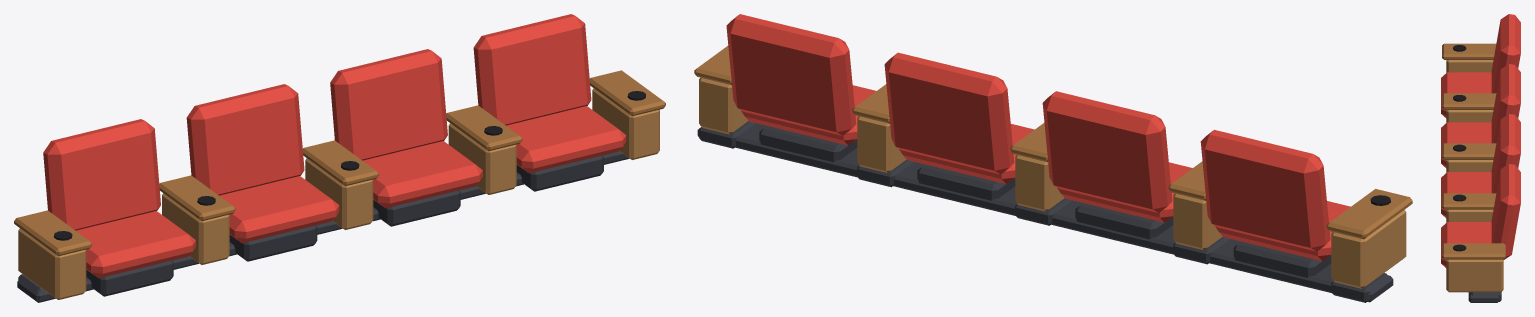
The model's file is seat_row_4.glb.
3 renders of one model, left to right at view 1: azimuth 30°, elevation 25°; view 2: azimuth 150°, elevation 25°; view 3: azimuth 270°, elevation 25°, orthographic. The views are drawn at different scales.
Parts seen in each view (by area): view 1: seat_row_4; view 2: seat_row_4; view 3: seat_row_4.
Part boxes in pixels (<box>): seat_row_4: <box>14,14,665,302</box>; seat_row_4: <box>694,14,1412,302</box>; seat_row_4: <box>1441,14,1520,302</box>.
Bounding box in the file's own units: 4.91 × 0.9961 × 0.7773.
